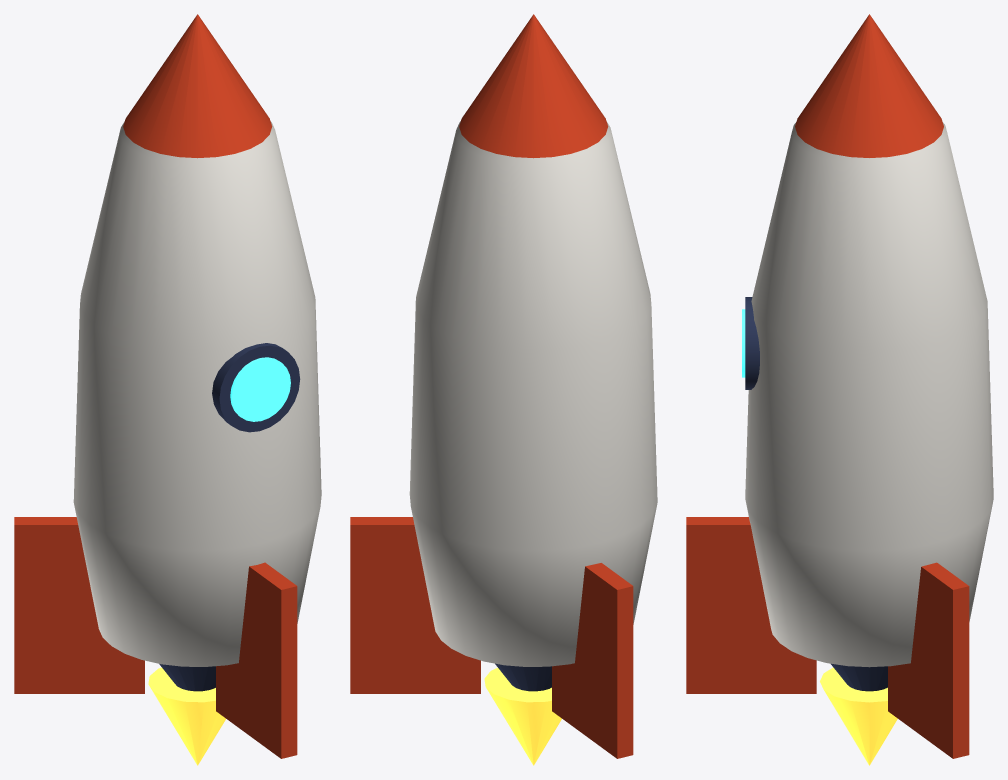
Rendered from space_rocket.glb.
3 renders of one model, left to right at view 1: azimuth 30°, elevation 25°; view 2: azimuth 150°, elevation 25°; view 3: azimuth 270°, elevation 25°, orthographic.
Size of the model in its own units: 1.05 by 2.67 by 0.99.
